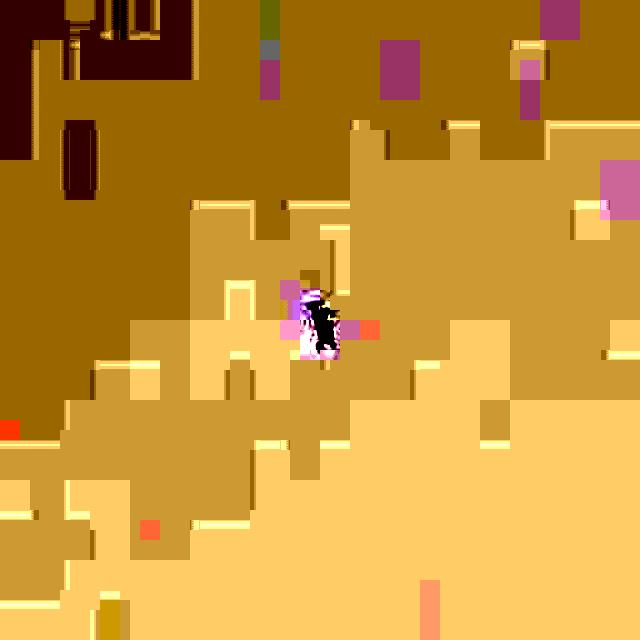drone: (299, 288, 352, 358)
